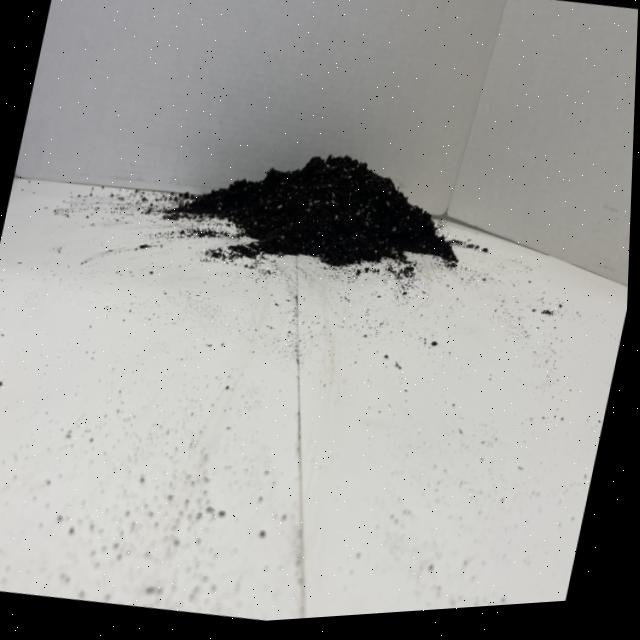soil: (152, 111, 481, 305)
